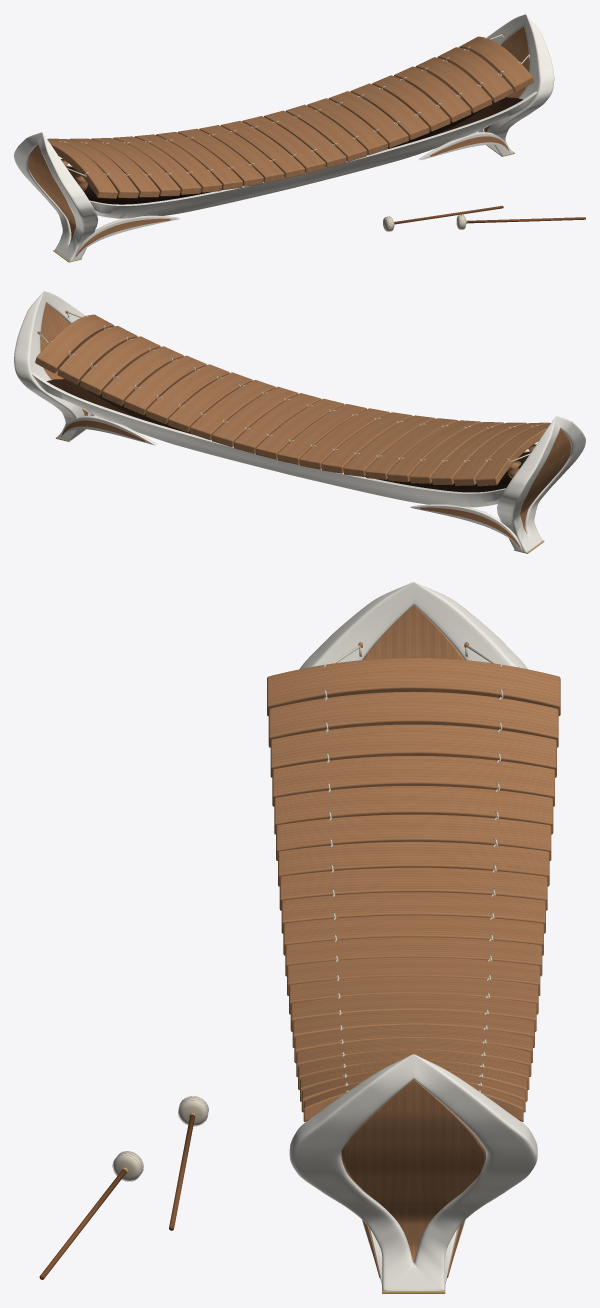
The model's file is ranat-modern-v5.glb.
3 renders of one model, top to bottom at view 1: azimuth 30°, elevation 25°; view 2: azimuth 150°, elevation 25°; view 3: azimuth 270°, elevation 25°, orthographic. The views are drawn at different scales.
Parts seen in each view (by area): view 1: O5 | End_Frame, O5 | Resonator_Shell, O5 | End_Wood_Insert, bar_20, bar_19, bar_18, bar_17, bar_16, bar_15, bar_14, bar_13, bar_12 (+17 smaller); view 2: O5 | End_Frame, O5 | Resonator_Shell, O5 | End_Wood_Insert, bar_20, bar_19, bar_18, bar_17, bar_16, bar_15, bar_14, bar_13, bar_12 (+15 smaller); view 3: O5 | End_Frame, O5 | End_Wood_Insert, bar_00, bar_01, bar_02, bar_03, bar_04, bar_05, bar_06, bar_07, bar_08, bar_09 (+11 smaller).
Part boxes in pixels (bbox=[...]): O5 | End_Frame: bbox=[14, 14, 554, 261]; O5 | Resonator_Shell: bbox=[67, 91, 537, 218]; O5 | End_Wood_Insert: bbox=[28, 26, 529, 242]; bar_20: bbox=[459, 36, 534, 91]; bar_19: bbox=[437, 47, 513, 102]; bar_18: bbox=[415, 57, 492, 113]; bar_17: bbox=[394, 66, 471, 122]; bar_16: bbox=[372, 75, 450, 131]; bar_15: bbox=[350, 83, 429, 139]; bar_14: bbox=[328, 91, 408, 147]; bar_13: bbox=[307, 98, 388, 155]; bar_12: bbox=[285, 104, 367, 161]; O5 | End_Frame: bbox=[14, 291, 585, 552]; O5 | Resonator_Shell: bbox=[32, 372, 529, 507]; O5 | End_Wood_Insert: bbox=[40, 303, 570, 532]; bar_20: bbox=[35, 314, 114, 373]; bar_19: bbox=[57, 326, 137, 384]; bar_18: bbox=[79, 336, 160, 395]; bar_17: bbox=[101, 346, 183, 405]; bar_16: bbox=[123, 355, 206, 415]; bar_15: bbox=[145, 364, 229, 424]; bar_14: bbox=[167, 372, 252, 432]; bar_13: bbox=[189, 380, 275, 440]; bar_12: bbox=[211, 386, 298, 447]; O5 | End_Frame: bbox=[289, 582, 537, 1290]; O5 | End_Wood_Insert: bbox=[341, 605, 485, 1262]; bar_00: bbox=[267, 657, 560, 716]; bar_01: bbox=[268, 691, 558, 747]; bar_02: bbox=[270, 724, 556, 777]; bar_03: bbox=[272, 756, 554, 806]; bar_04: bbox=[274, 786, 553, 834]; bar_05: bbox=[276, 814, 551, 860]; bar_06: bbox=[278, 841, 549, 886]; bar_07: bbox=[279, 867, 547, 910]; bar_08: bbox=[281, 892, 545, 933]; bar_09: bbox=[283, 915, 543, 955].
Bounding box in the file's own units: 1.4 × 0.3498 × 0.6389.
7 materials, 2 textured.
